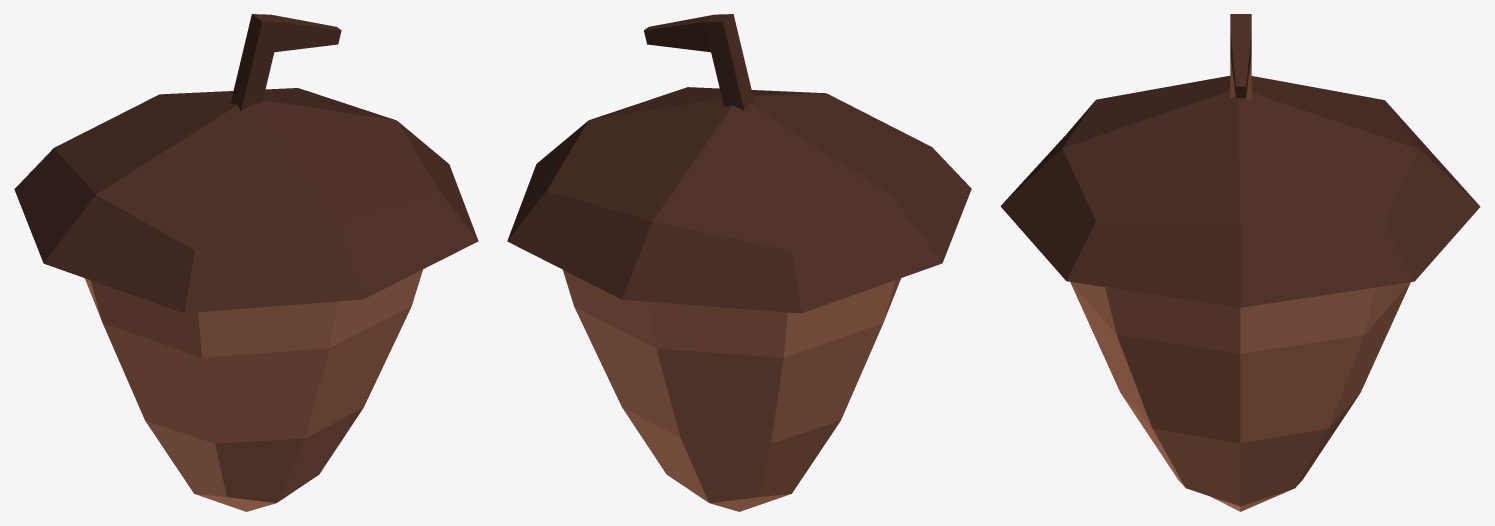
The model's file is bellota.fbx.
3 views of the same model, side by side, from view 1: azimuth 30°, elevation 25°; view 2: azimuth 150°, elevation 25°; view 3: azimuth 270°, elevation 25° (orthographic). The views are drawn at different scales.
Parts seen in each view (by area): view 1: Cube.001; view 2: Cube.001; view 3: Cube.001.
Boxes of the visible parts, x1=… form: Cube.001: x1=14, y1=14, x2=478, y2=511; Cube.001: x1=507, y1=14, x2=971, y2=511; Cube.001: x1=1000, y1=14, x2=1480, y2=511.
Size of the model in its own units: 39.86 by 46.12 by 39.86.
